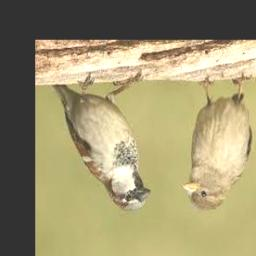Sparrow: (50, 74, 150, 211), (181, 72, 252, 210)
